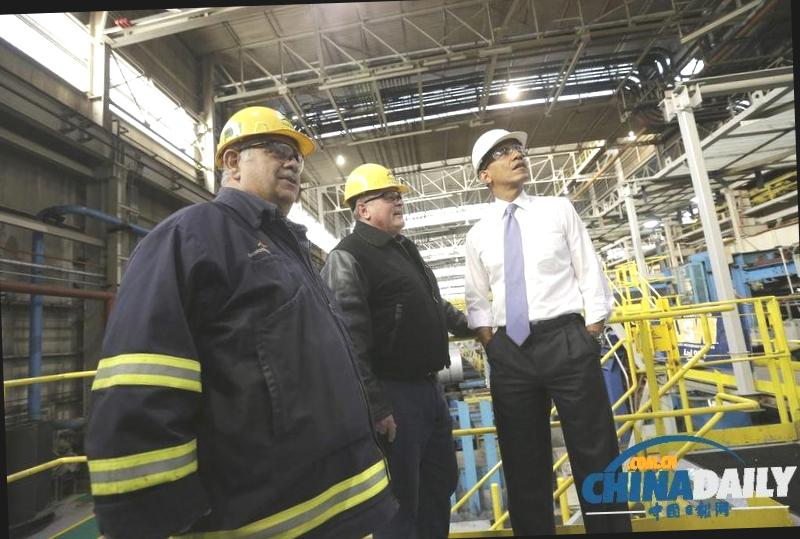helmet: (208, 101, 322, 176), (340, 159, 411, 211)
no_vest: (153, 202, 375, 539), (470, 194, 594, 340)
person: (106, 99, 345, 539), (451, 122, 622, 531), (322, 151, 475, 539)
